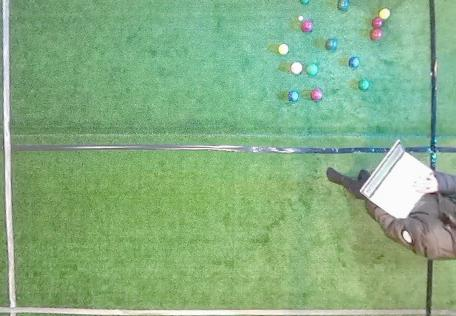blue: (288, 90, 300, 102), (348, 56, 359, 68)
green: (325, 39, 337, 51), (337, 1, 351, 11), (306, 64, 318, 75), (358, 79, 369, 90), (299, 1, 312, 5)
red: (370, 28, 383, 41), (301, 20, 313, 32), (311, 89, 323, 101), (291, 62, 302, 74), (372, 17, 383, 28)
vline: (0, 1, 19, 315), (429, 1, 455, 166), (425, 258, 456, 315)
white: (298, 16, 303, 21)
yellow: (378, 8, 390, 20), (278, 43, 289, 54)
